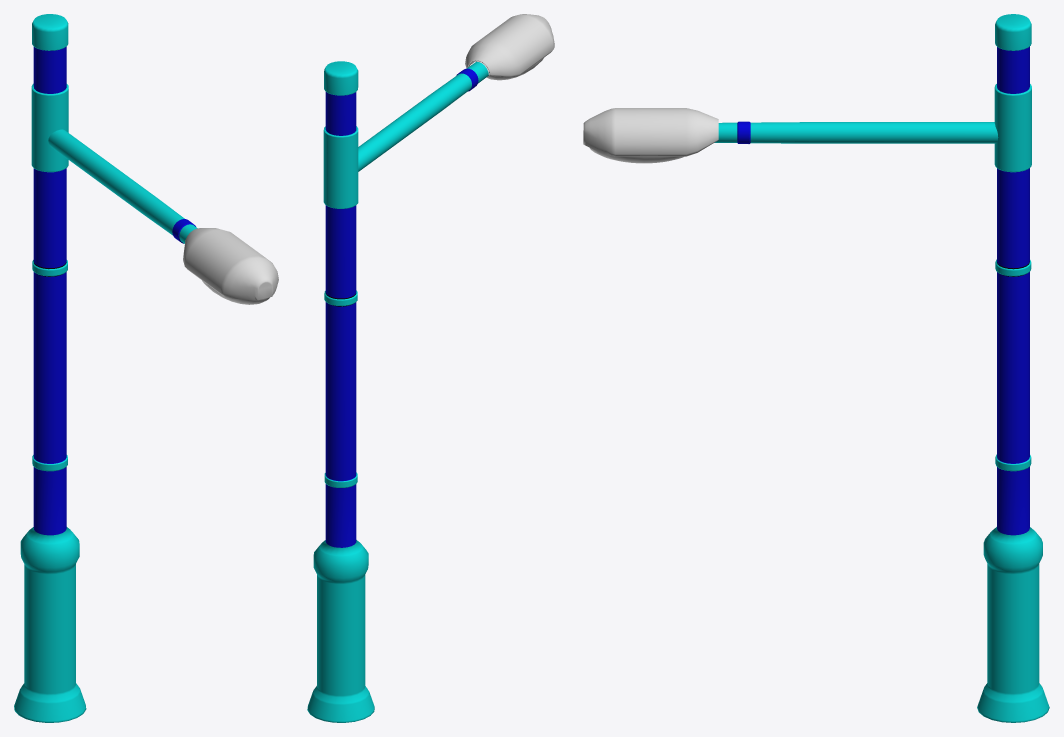
Rendered from SM_ENV_Streetlight_v04.fbx.
3 views of the same model, side by side, from view 1: azimuth 30°, elevation 25°; view 2: azimuth 150°, elevation 25°; view 3: azimuth 270°, elevation 25° (orthographic). The views are drawn at different scales.
Visible parts, largest first — view 1: SM_ENV_Streetlight_Post, SM_ENV_StreetlightShell, SM_ENV_StreetlightArm; view 2: SM_ENV_Streetlight_Post, SM_ENV_StreetlightShell, SM_ENV_StreetlightArm; view 3: SM_ENV_Streetlight_Post, SM_ENV_StreetlightArm, SM_ENV_StreetlightShell.
Boxes of the visible parts, x1,y1,x2,y2 form: SM_ENV_Streetlight_Post: [14, 14, 86, 722]; SM_ENV_StreetlightShell: [183, 228, 278, 300]; SM_ENV_StreetlightArm: [48, 129, 197, 243]; SM_ENV_Streetlight_Post: [307, 61, 374, 722]; SM_ENV_StreetlightShell: [465, 14, 554, 77]; SM_ENV_StreetlightArm: [358, 61, 488, 171]; SM_ENV_Streetlight_Post: [977, 14, 1049, 722]; SM_ENV_StreetlightArm: [714, 121, 998, 143]; SM_ENV_StreetlightShell: [583, 108, 718, 156].
Bounding box in the file's own units: 74.66 × 778 × 479.
